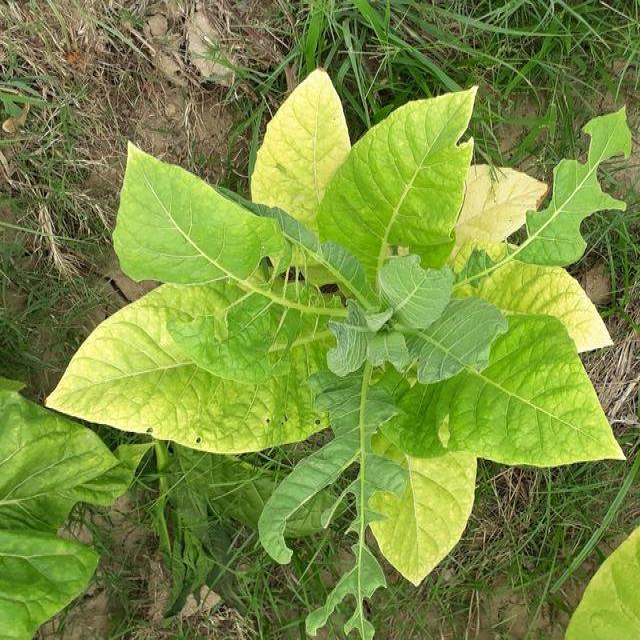crop: (92, 63, 640, 640), (0, 378, 107, 640)
